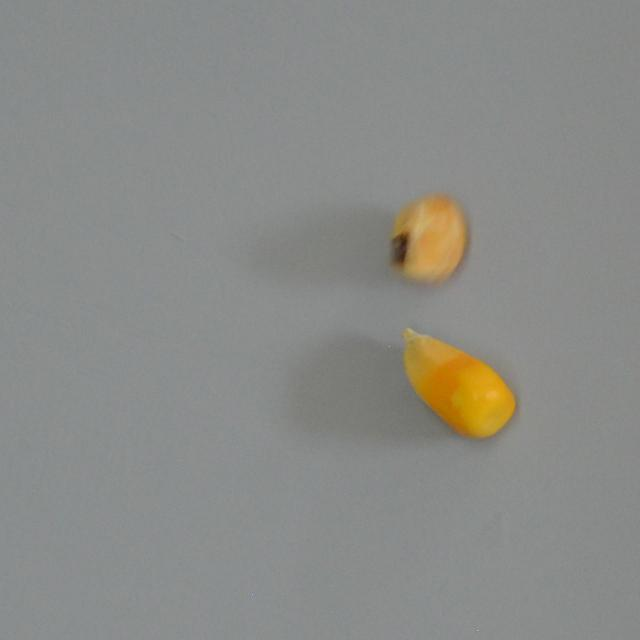dañado: (386, 194, 472, 288)
entero: (400, 327, 516, 440)
